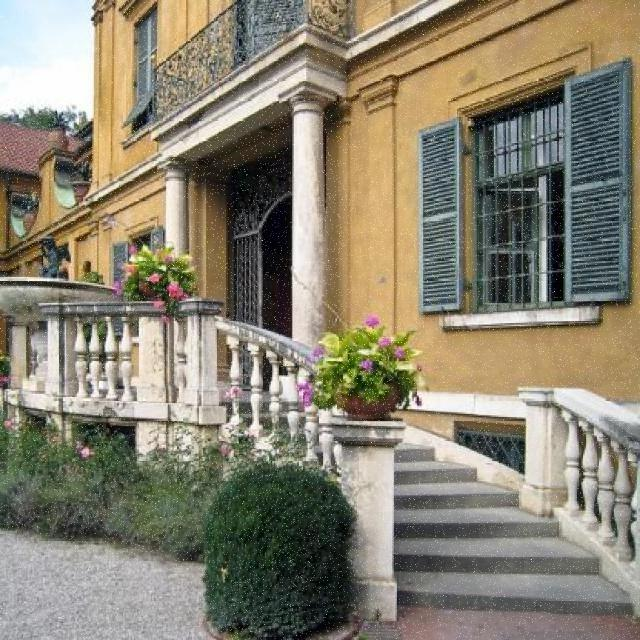stair: (392, 449, 630, 598)
